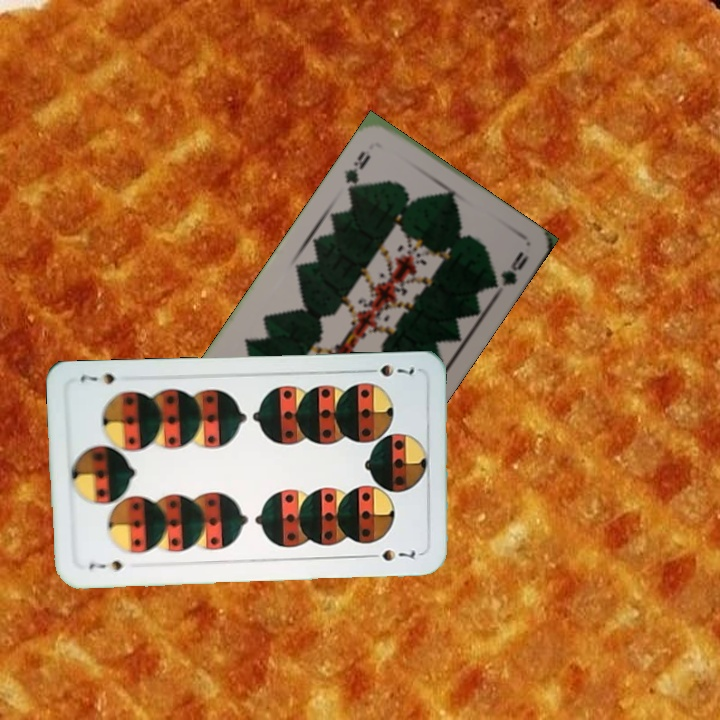G9: (339, 147, 373, 198)
S7: (361, 360, 419, 380), (84, 556, 126, 572)
